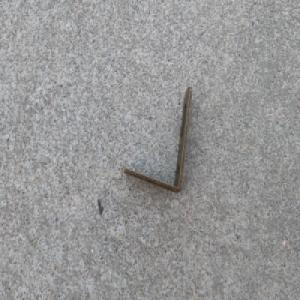MetalPart: (123, 85, 193, 194)
